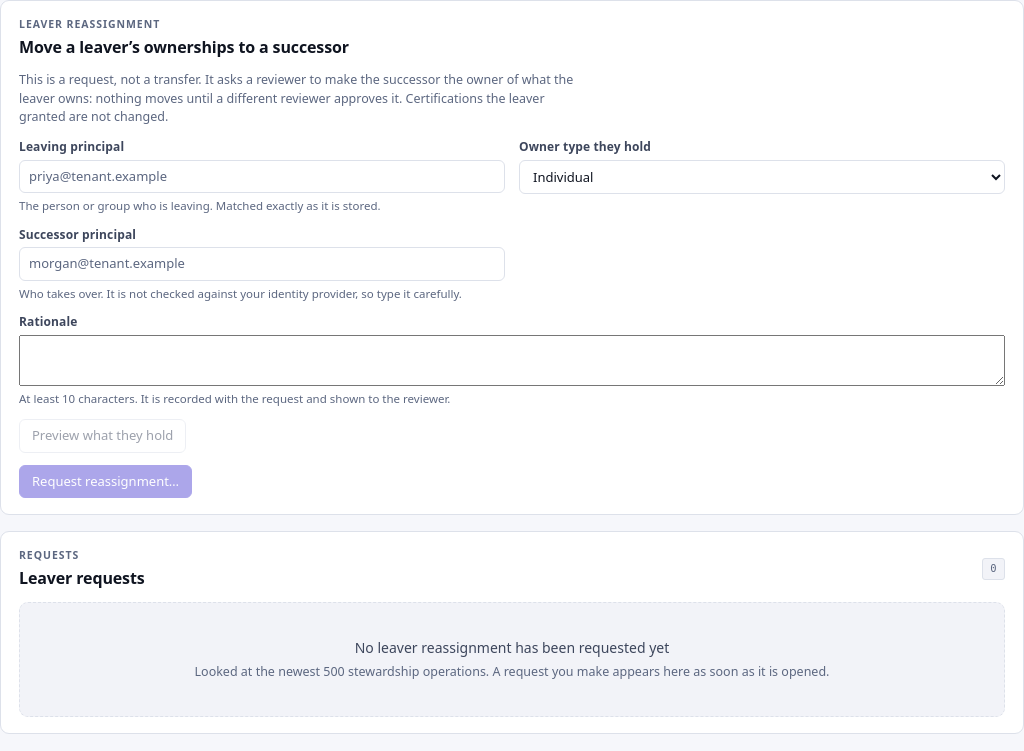
it: Leaver reassignment: the preview › lists what the leaver holds, says how much of the organization it read, and starts with every row ticked
Check: the button "Request reassignment…" is shown, box [19,465,192,498]
Type "priya" into the field labelled "Leaving principal". click: [262, 177]
box: [19,160,505,193]
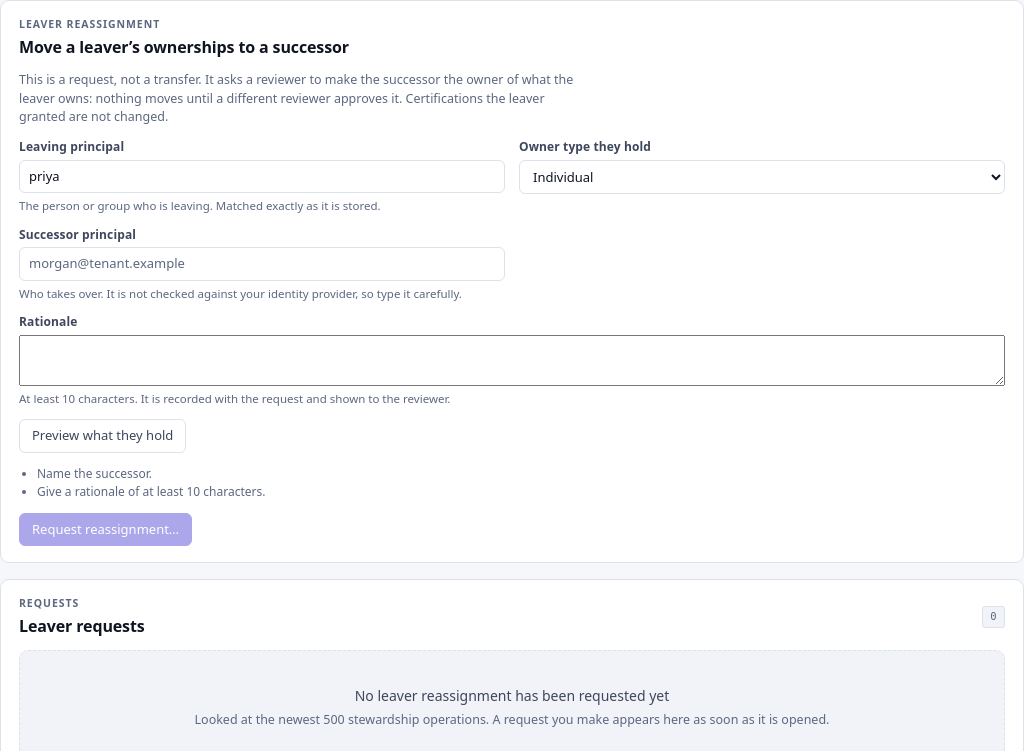
Type "morgan" into the field labelled "Successor principal". click: [262, 264]
box: [19,247,505,281]
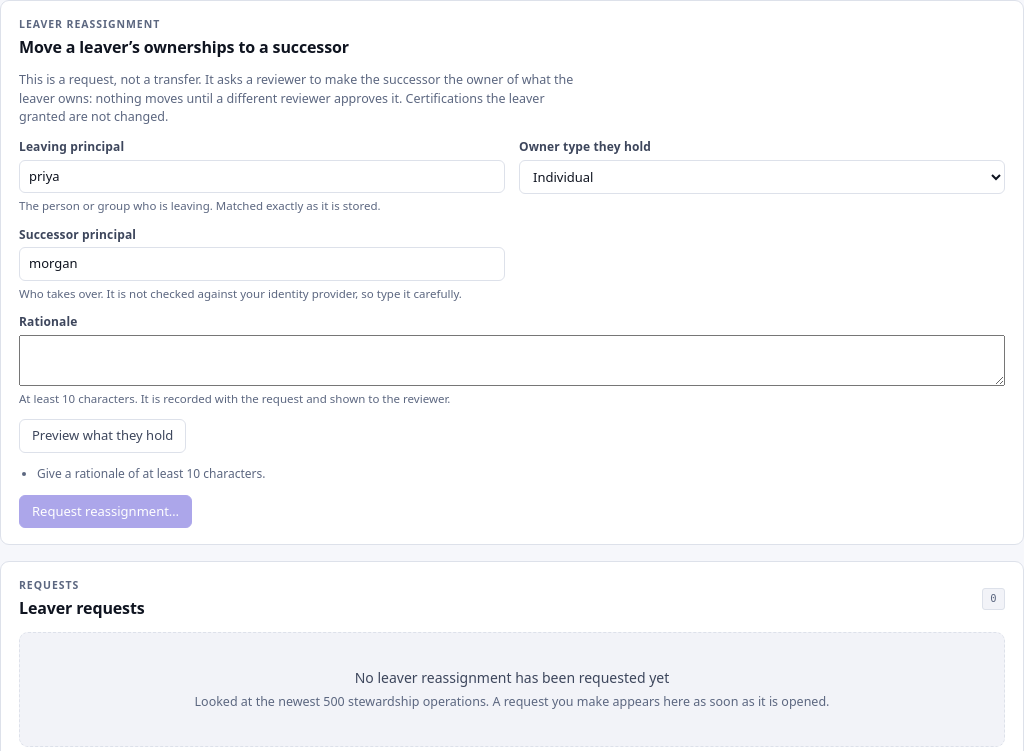
Type "Priya left the bank on 2026-09-18." into the text box labelled "Rationale". click: [512, 360]
box: [19,335,1005,386]
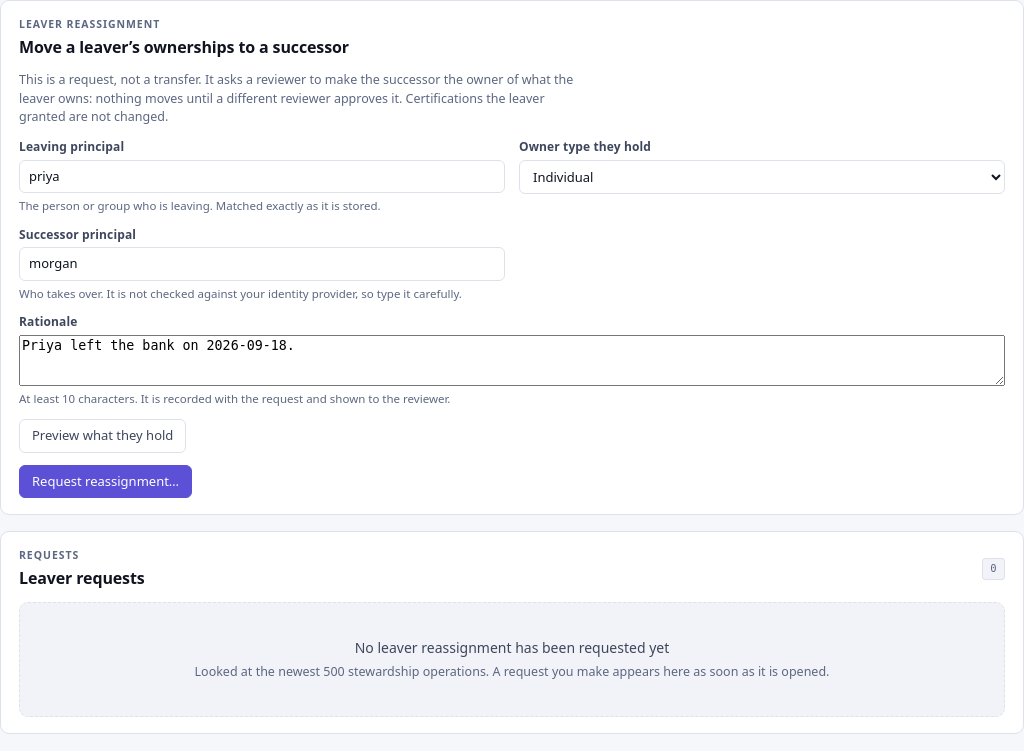
Click the button "Preview what they hold". click: [103, 436]
box: [19,419,186,453]
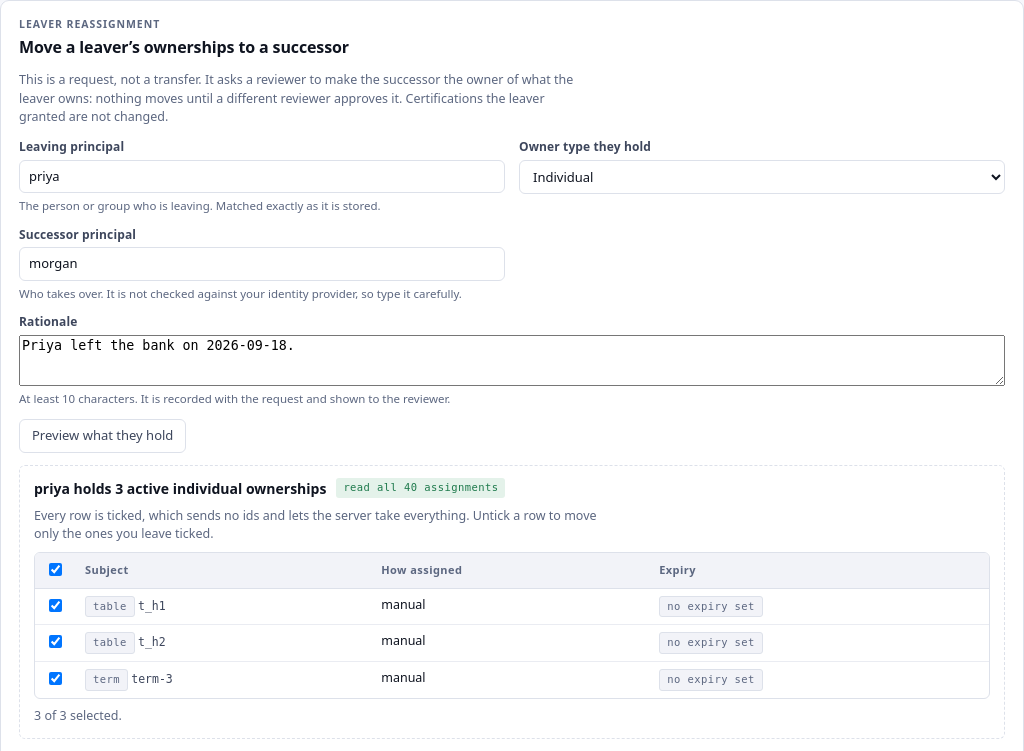
Check: the element named "Preview of the leaver's ownerships" shows "priya holds 3 active individual ownerships", box [34,479,326,498]
Check: the element named "Preview of the leaver's ownerships" shows "read all 40 assignments", box [343,481,498,493]
Check: the element named "Preview of the leaver's ownerships" shows "Every row is ticked, which sends no ids and lets the server take everything", box [34,507,597,542]
